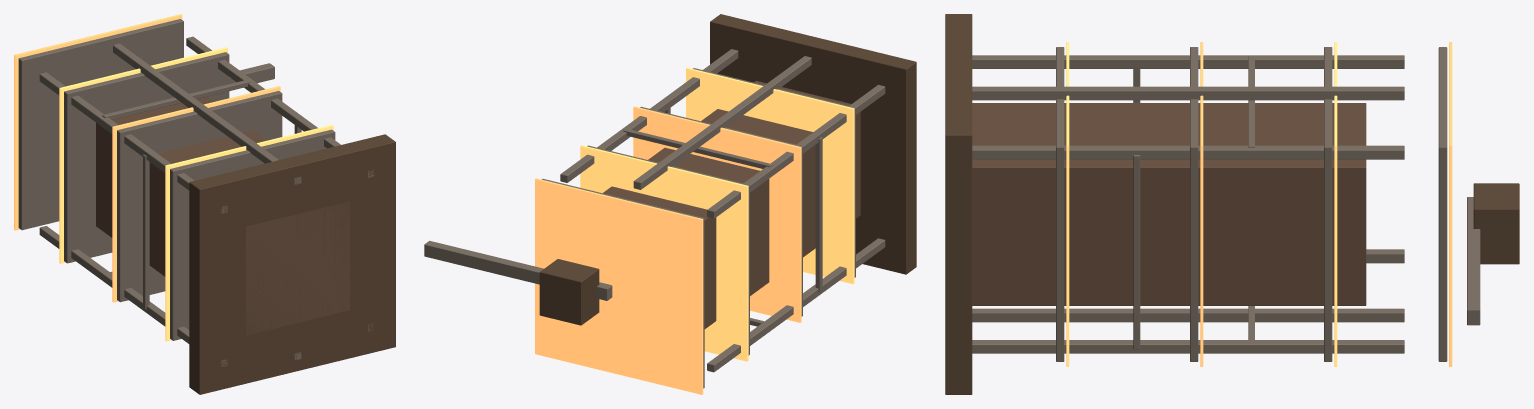
The model's file is mass_scaffold_ring_canyon_r.glb.
The picture shows the model from 3 angles, left to right: view 1: azimuth 30°, elevation 25°; view 2: azimuth 150°, elevation 25°; view 3: azimuth 270°, elevation 25°; orthographic projection. The views are drawn at different scales.
Parts seen in each view (by area): view 1: FlightKit_MassScaffold_canyon_R; view 2: FlightKit_MassScaffold_canyon_R; view 3: FlightKit_MassScaffold_canyon_R.
Part boxes in pixels (left/top/right/bottom): FlightKit_MassScaffold_canyon_R: left=14, top=14, right=395, bottom=394; FlightKit_MassScaffold_canyon_R: left=424, top=14, right=916, bottom=394; FlightKit_MassScaffold_canyon_R: left=945, top=14, right=1519, bottom=394.
Size of the model in its own units: 10.75 by 7.5 by 15.
